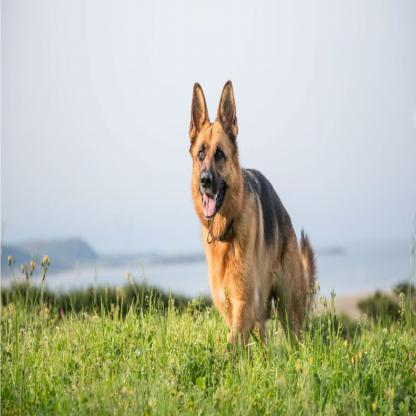german shepherd: (190, 83, 314, 349)
